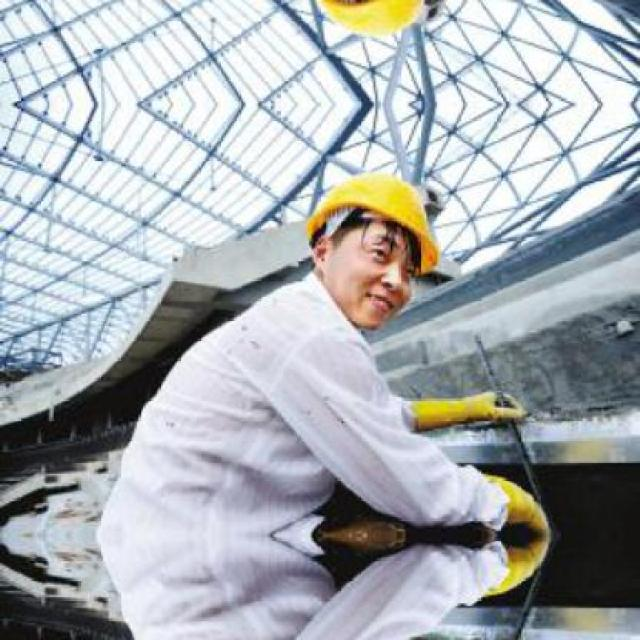helmet: (302, 152, 448, 337), (301, 0, 449, 55)
